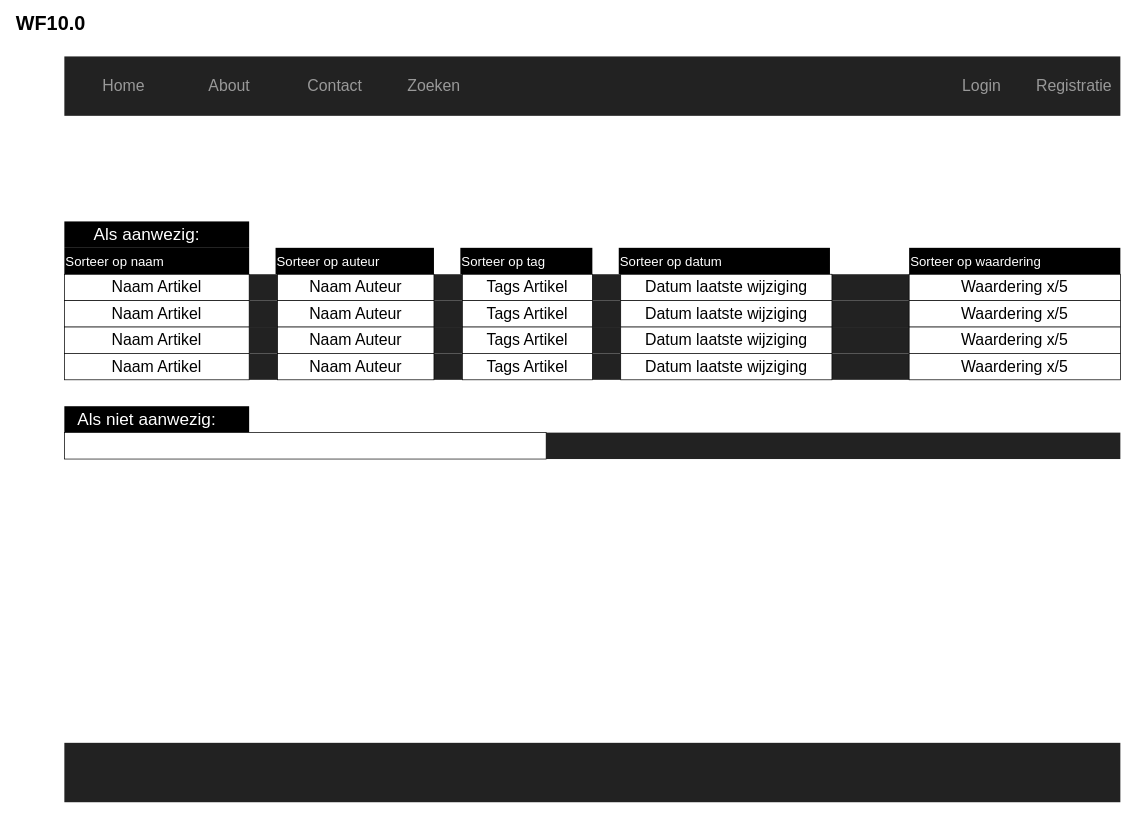
Some shapes in this 1132 by 813 pixel diagram are drawn without their labels. The shapes that lost their labels are listed below. From the top down, each one's centre as x and y in pixels, then its label:
the point at 305,445: Deze zoekopdracht op ... heeft geen resultaten
the point at 592,772: Footer tekst
